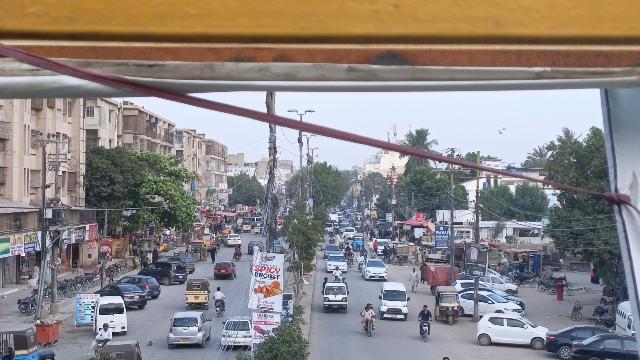Bike: (418, 319, 433, 342), (362, 316, 375, 337), (93, 339, 107, 353), (214, 300, 224, 317)
Car: (477, 312, 547, 350), (570, 332, 640, 360), (545, 322, 597, 359), (166, 309, 213, 349), (94, 282, 147, 309), (109, 274, 161, 298), (221, 315, 254, 350), (138, 261, 188, 284), (362, 259, 390, 282), (325, 254, 349, 273), (214, 260, 236, 280)
Person: (96, 323, 113, 340), (409, 267, 419, 294), (417, 304, 433, 320), (361, 302, 376, 316), (212, 286, 225, 300), (32, 263, 39, 284), (210, 244, 217, 264)
Rickshaw: (0, 325, 39, 360), (434, 285, 462, 326), (184, 278, 211, 310), (100, 341, 142, 360), (352, 233, 365, 252)
Suzuki: (321, 275, 350, 314)
Van: (93, 296, 130, 335), (379, 282, 410, 322)
